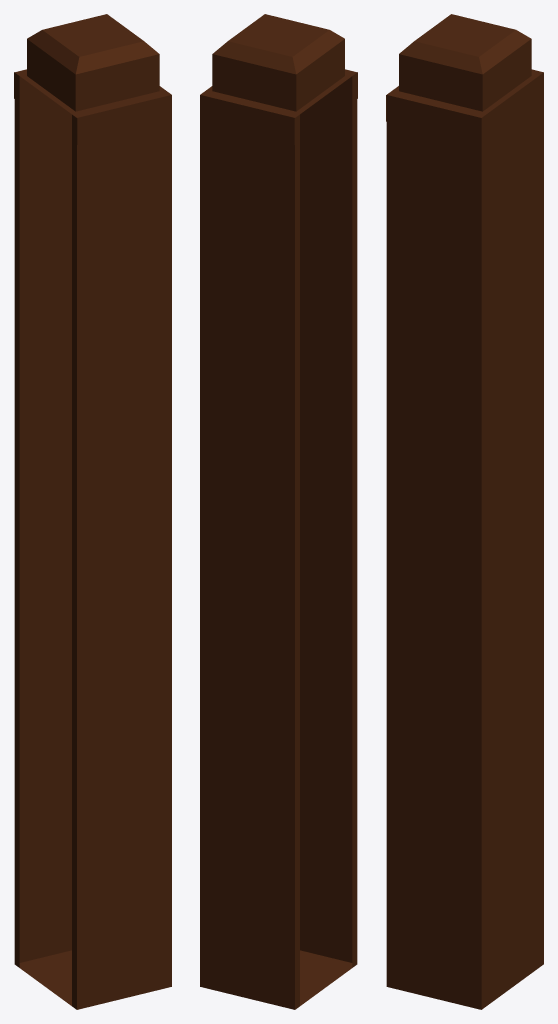
The model's file is FencePost_01.fbx.
The picture shows the model from 3 angles, left to right: view 1: azimuth 30°, elevation 25°; view 2: azimuth 150°, elevation 25°; view 3: azimuth 330°, elevation 25°; orthographic projection.
Parts seen in each view (by area): view 1: FencePost_01; view 2: FencePost_01; view 3: FencePost_01.
Boxes of the visible parts, left/top/right/bottom form: FencePost_01: left=14, top=14, right=171, bottom=1009; FencePost_01: left=200, top=14, right=357, bottom=1009; FencePost_01: left=386, top=14, right=543, bottom=1009.
Size of the model in its own units: 1.77 by 16.79 by 2.05.
